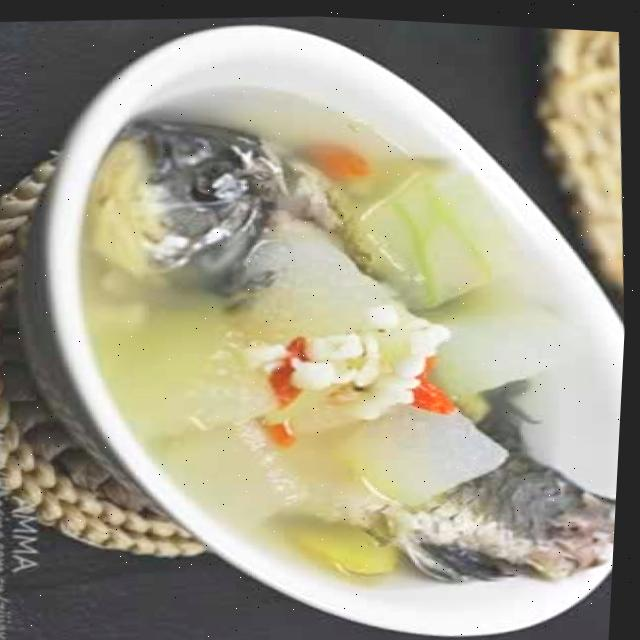汤锅炖物: (11, 5, 640, 640)
